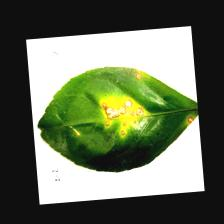canker: (91, 72, 197, 141)
